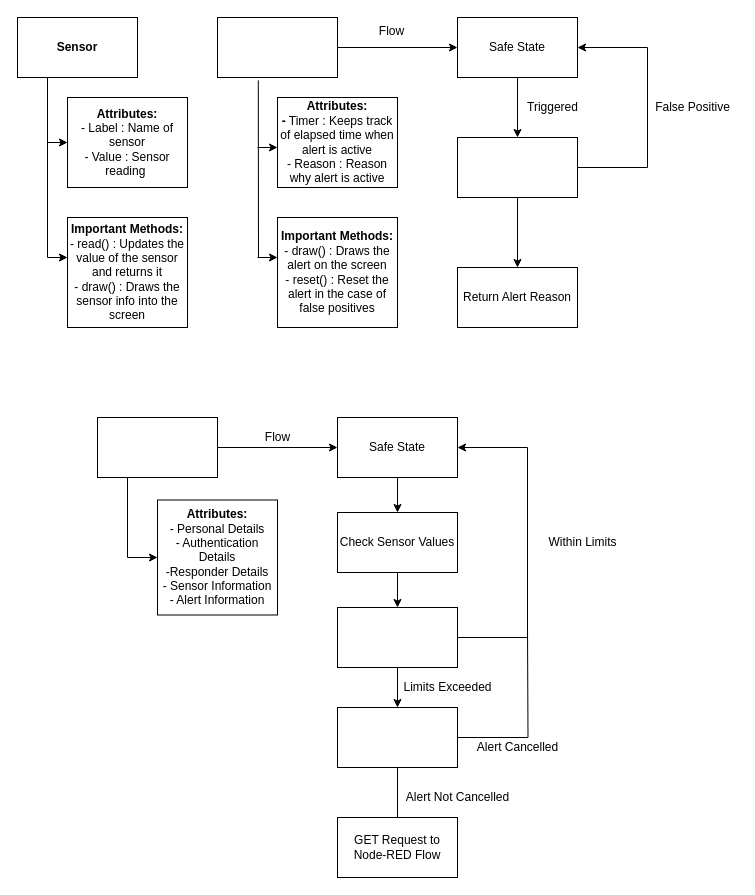
This 755x895 diagram has some shape labels left out. The centre of each missing label's shape, as x and y in pixels:
"Active Alert" belongs at point 397,737.
"Alert" belongs at point 277,47.
"App" belongs at point 157,447.
"Countdown" belongs at point 517,167.
"Update Sensor Data on Screen" belongs at point 397,637.
